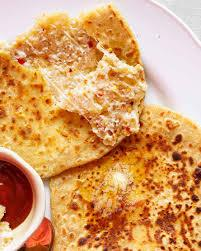paratha: (51, 108, 200, 249), (0, 16, 146, 159)
